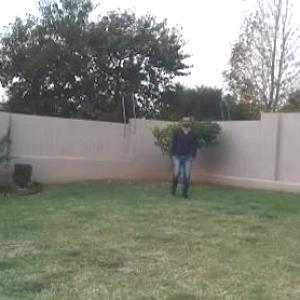follow: (170, 109, 198, 200)
